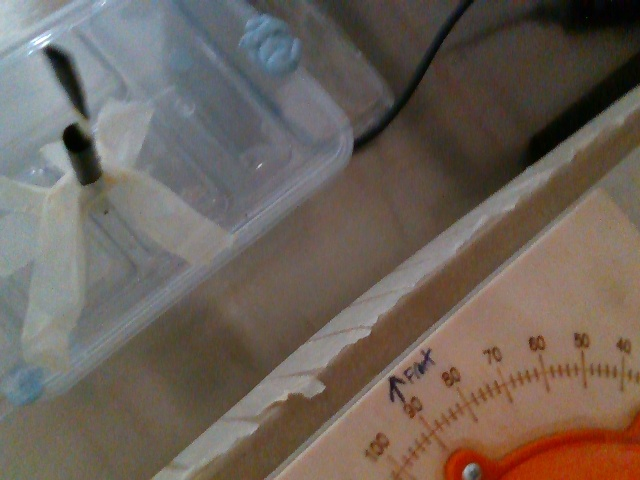test_strip: (38, 42, 91, 137)
